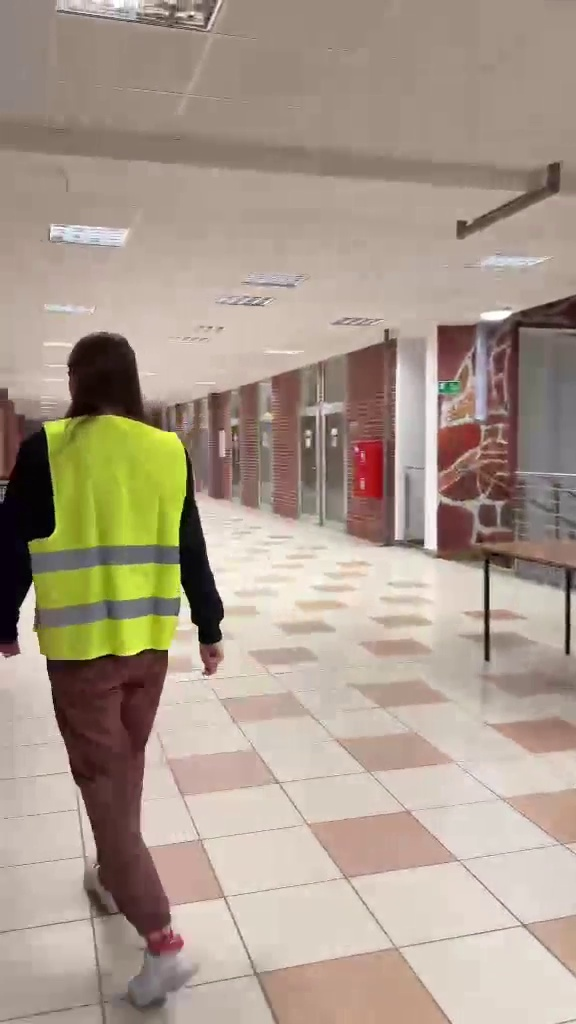vest: (4, 329, 221, 1010)
